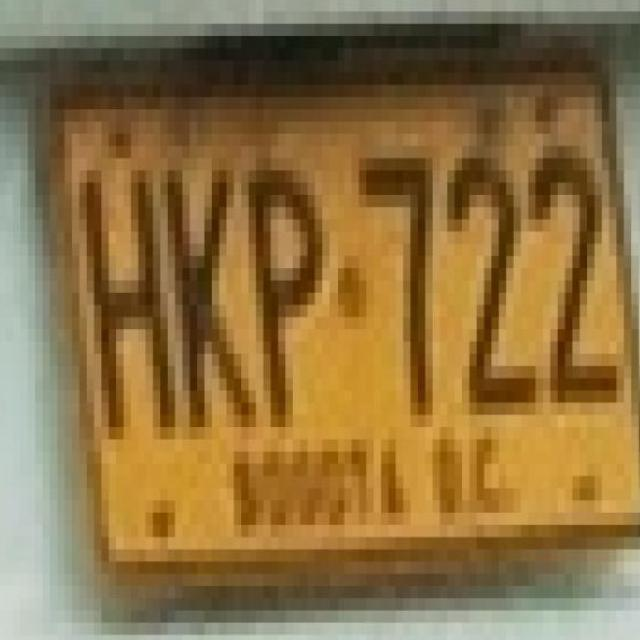license-plate: (46, 74, 640, 539)
